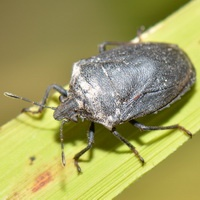insect: (0, 108, 188, 199), (139, 60, 199, 132)
